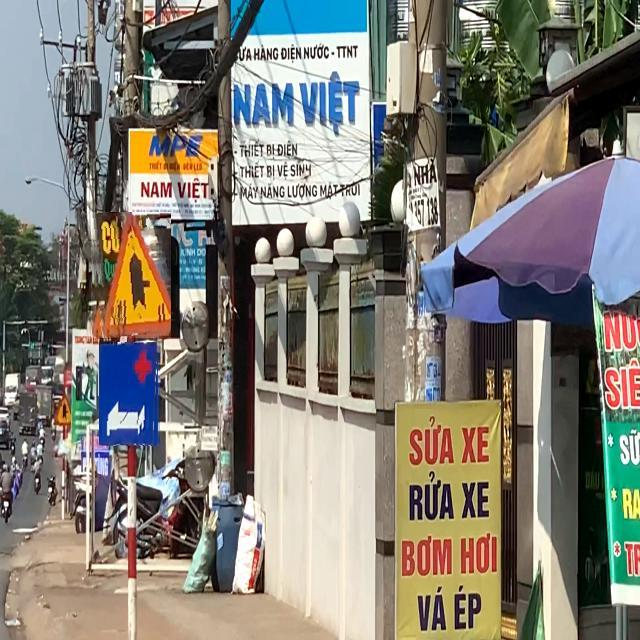R-425: (100, 342, 160, 446)
W-207b: (91, 212, 171, 338)
